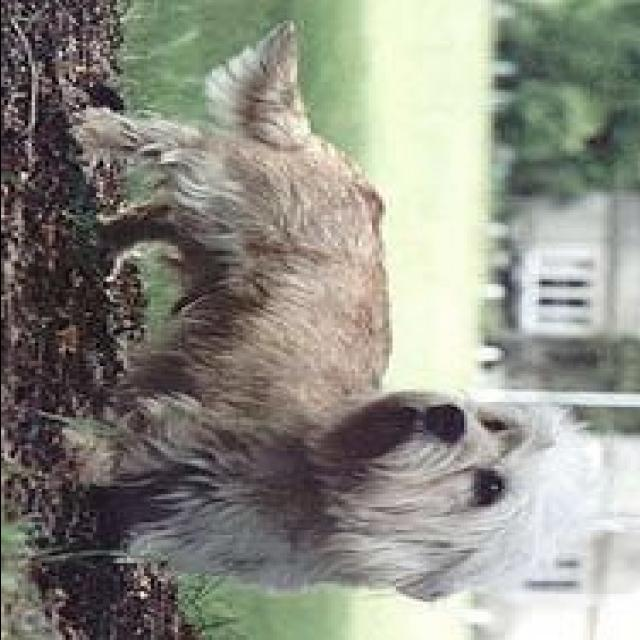dandie_dinmont: (55, 21, 610, 604)
